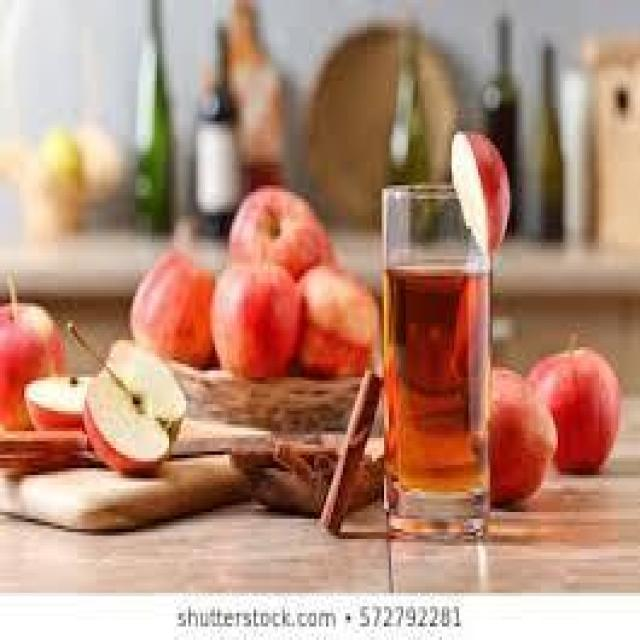maca: (128, 182, 379, 377)
